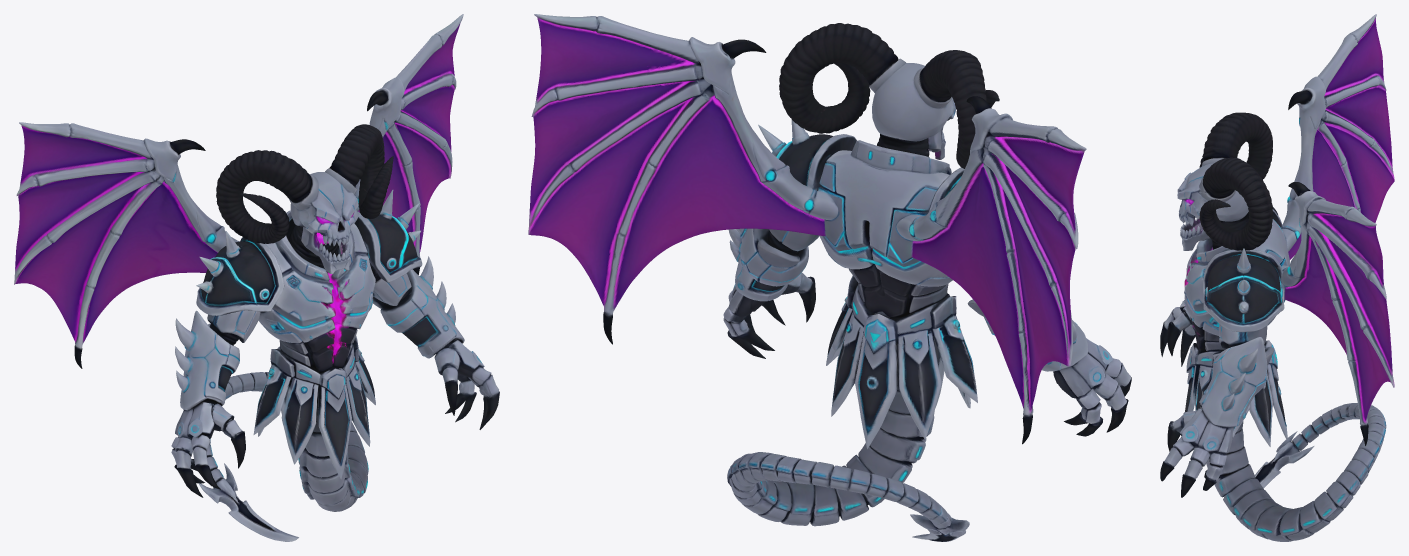
The model's file is demon.glb.
3 views of the same model, side by side, from view 1: azimuth 30°, elevation 25°; view 2: azimuth 150°, elevation 25°; view 3: azimuth 270°, elevation 25° (orthographic). The views are drawn at different scales.
Visible parts, largest first — view 1: wingR, body, wingL, tail, shoulderR, hornR, head, shoulderL, elbowR, elbowL, hornL, handR (+1 smaller); view 2: wingL, wingR, body, tail, hornL, head, hornR, handR, elbowL, shoulderL, handL, elbowR; view 3: wingR, wingL, tail, body, shoulderL, hornL, elbowL, handL, hornR, head, handR.
Part boxes in pixels (x1=…): wingR: x1=14, y1=122, x2=239, y2=368; body: x1=253, y1=210, x2=375, y2=479; wingL: x1=355, y1=14, x2=463, y2=274; tail: x1=198, y1=372, x2=368, y2=541; shoulderR: x1=196, y1=231, x2=284, y2=344; hornR: x1=216, y1=150, x2=318, y2=243; head: x1=288, y1=172, x2=359, y2=273; shoulderL: x1=354, y1=190, x2=422, y2=305; elbowR: x1=175, y1=310, x2=239, y2=410; elbowL: x1=372, y1=256, x2=464, y2=358; hornL: x1=325, y1=124, x2=393, y2=218; handR: x1=171, y1=401, x2=245, y2=497; wingL: x1=528, y1=14, x2=838, y2=344; wingR: x1=896, y1=96, x2=1086, y2=444; body: x1=818, y1=140, x2=977, y2=448; tail: x1=727, y1=373, x2=969, y2=541; hornL: x1=779, y1=23, x2=905, y2=133; head: x1=872, y1=63, x2=956, y2=159; hornR: x1=914, y1=50, x2=999, y2=168; handR: x1=1053, y1=338, x2=1131, y2=436; elbowL: x1=728, y1=228, x2=808, y2=301; shoulderL: x1=758, y1=120, x2=856, y2=253; handL: x1=723, y1=272, x2=815, y2=358; elbowR: x1=967, y1=299, x2=1087, y2=371; wingR: x1=1281, y1=14, x2=1394, y2=259; wingL: x1=1280, y1=182, x2=1394, y2=445; tail: x1=1206, y1=403, x2=1386, y2=541; body: x1=1184, y1=211, x2=1289, y2=446; shoulderL: x1=1203, y1=248, x2=1284, y2=348; hornL: x1=1197, y1=157, x2=1273, y2=250; elbowL: x1=1199, y1=337, x2=1274, y2=427; handL: x1=1160, y1=408, x2=1233, y2=497; hornR: x1=1199, y1=112, x2=1272, y2=179; head: x1=1177, y1=163, x2=1249, y2=250; handR: x1=1160, y1=301, x2=1195, y2=366.
Bounding box in the file's own units: 1 × 0.8935 × 0.4706.
Materials: 1 (1 with a texture image).
